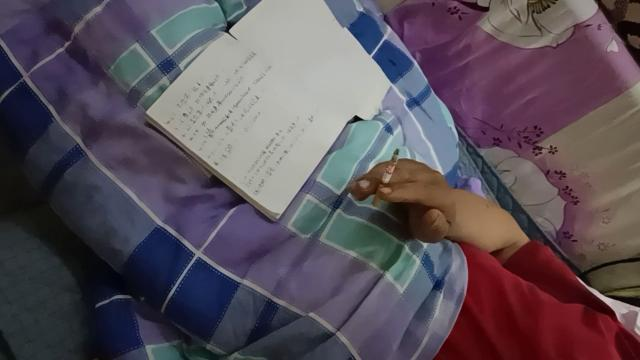Smoking: (372, 149, 400, 207)
